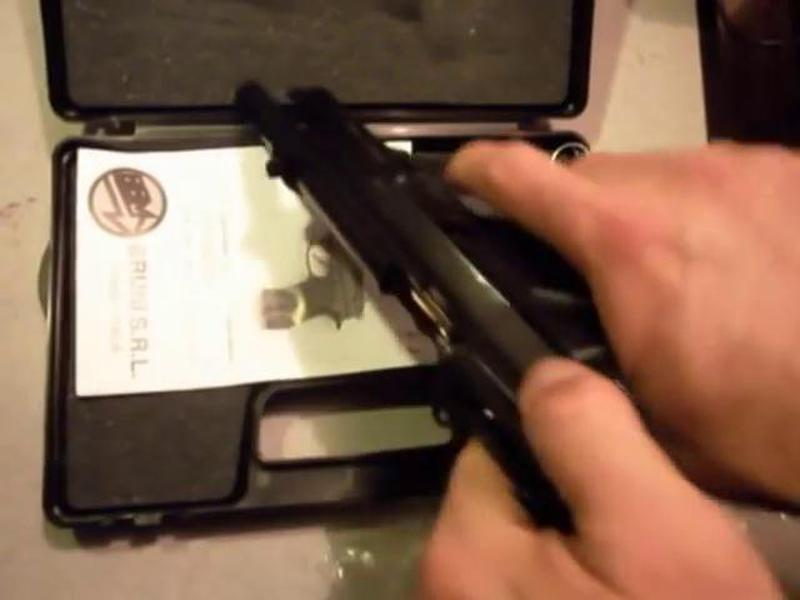Pistola: (231, 57, 684, 546)
